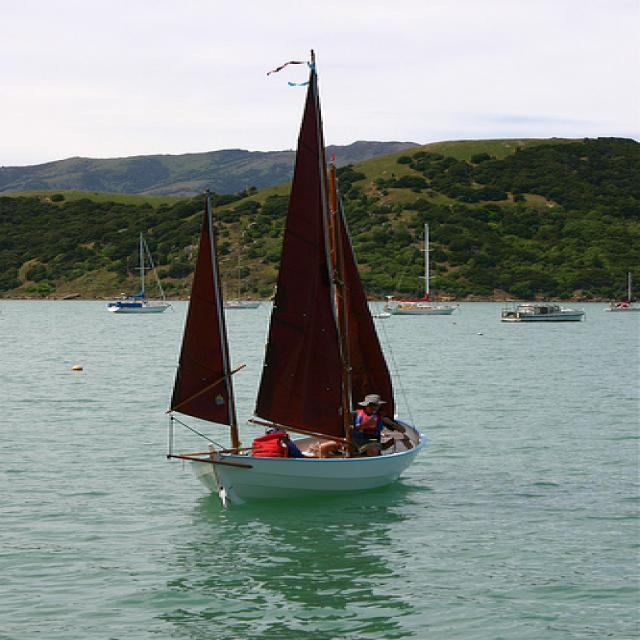Ship: (134, 52, 430, 492), (113, 238, 190, 314)
